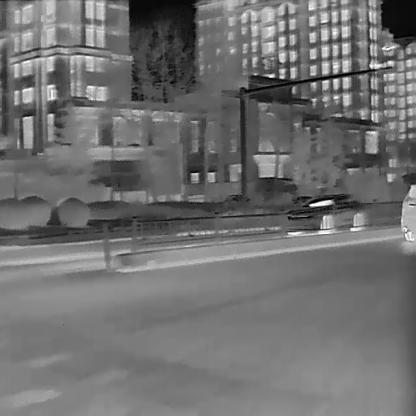car: (285, 192, 365, 236), (254, 176, 299, 207), (398, 184, 415, 241), (222, 193, 251, 205)
